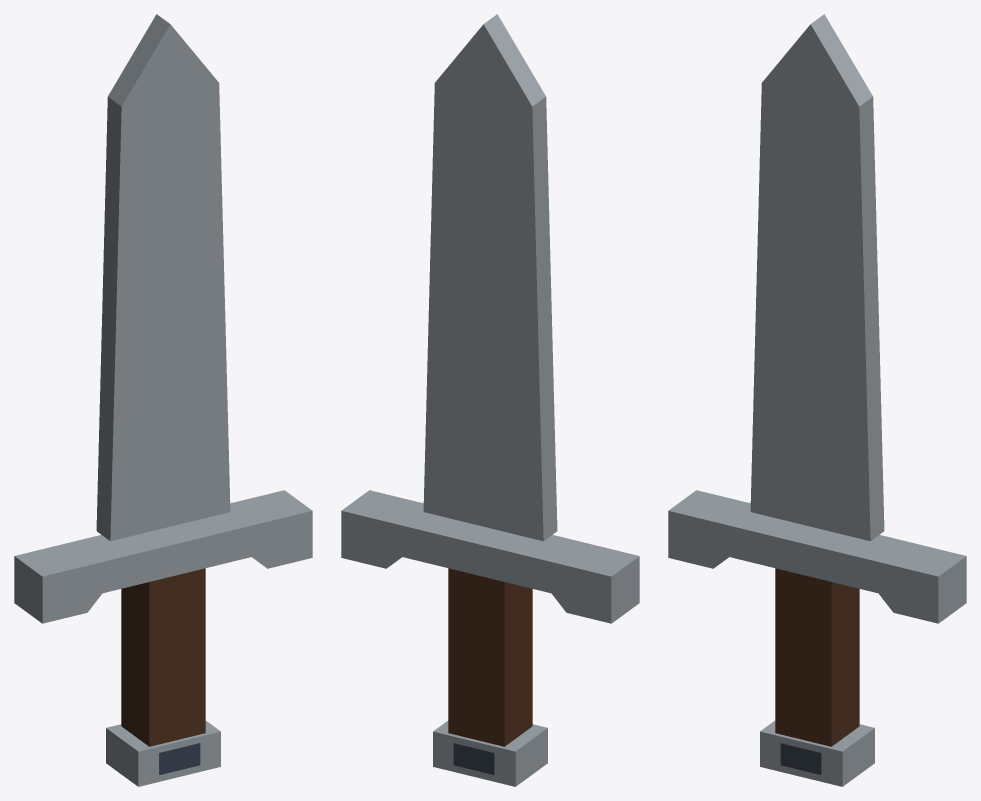
The picture shows the model from 3 angles, left to right: view 1: azimuth 30°, elevation 25°; view 2: azimuth 150°, elevation 25°; view 3: azimuth 330°, elevation 25°; orthographic projection.
Parts seen in each view (by area): view 1: blade, crossguard, grip, pommel, pommel_inset; view 2: blade, crossguard, grip, pommel, pommel_inset; view 3: blade, crossguard, grip, pommel, pommel_inset.
Boxes of the visible parts, <box> form: blade: <box>96,14,230,541</box>; crossguard: <box>14,490,312,623</box>; grip: <box>121,568,205,746</box>; pommel: <box>106,720,220,786</box>; pommel_inset: <box>159,743,200,774</box>; blade: <box>423,14,557,541</box>; crossguard: <box>341,490,639,623</box>; grip: <box>448,568,532,746</box>; pommel: <box>433,720,547,786</box>; pommel_inset: <box>453,743,494,774</box>; blade: <box>750,14,884,541</box>; crossguard: <box>668,490,966,623</box>; grip: <box>775,568,859,746</box>; pommel: <box>760,720,874,786</box>; pommel_inset: <box>780,743,821,774</box>.
Size of the model in its own units: 0.36 by 0.95 by 0.077.
2 materials, 2 textured.
